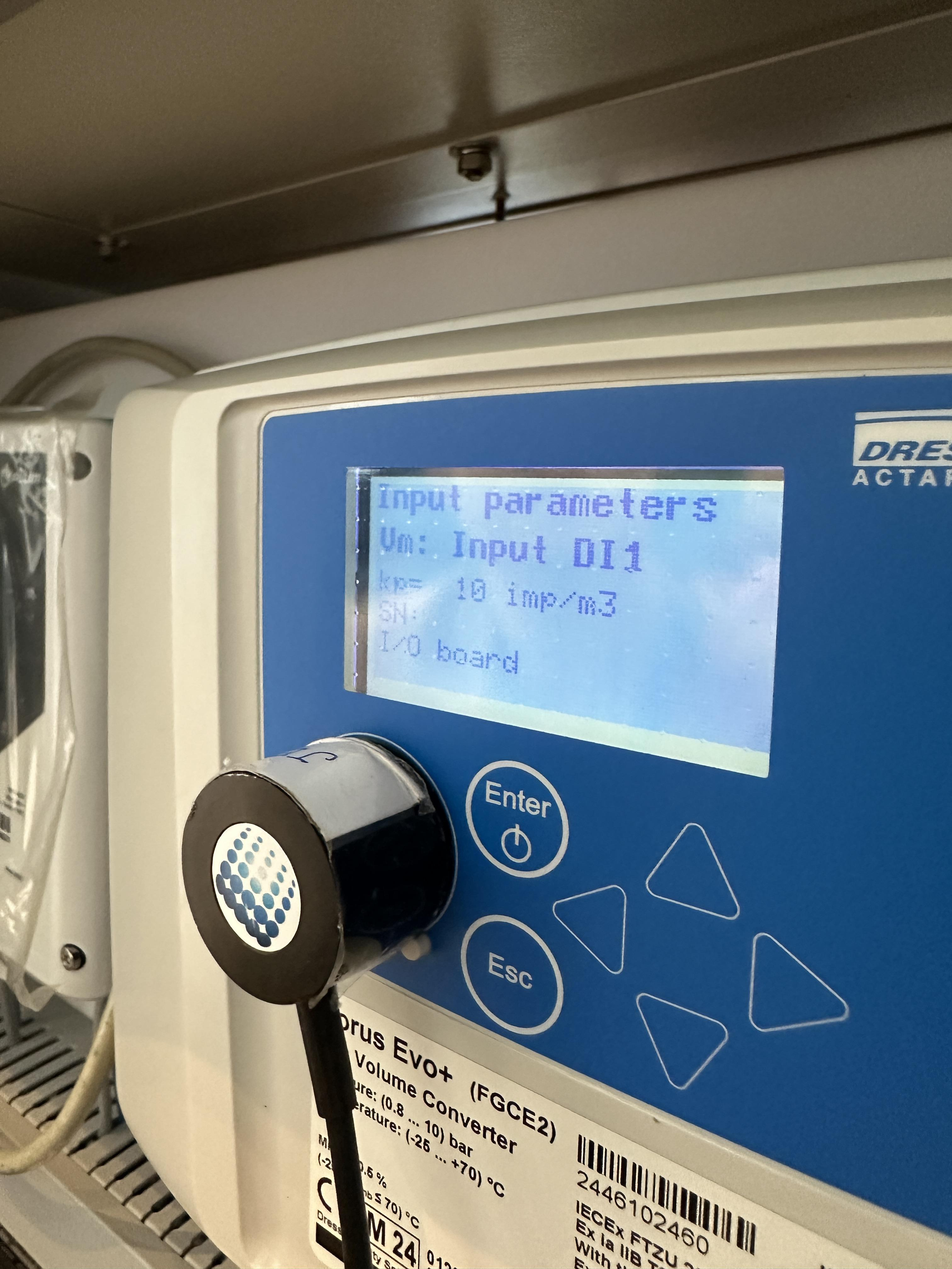digital_screen: (365, 471, 785, 778)
